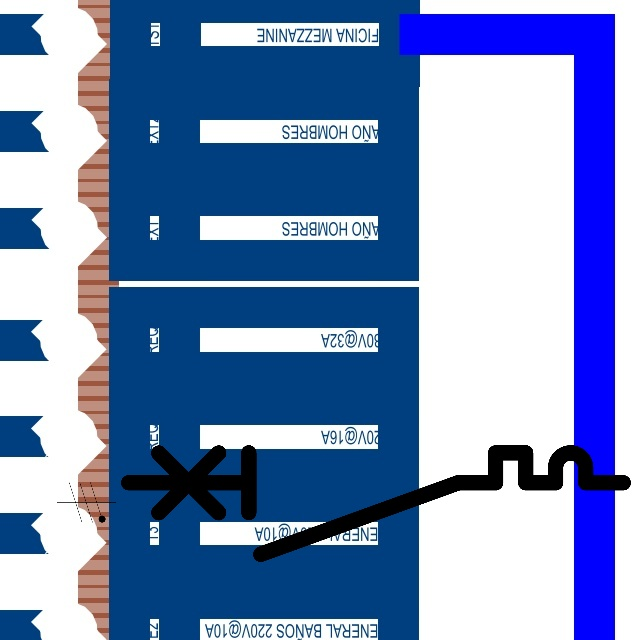interruptor_termomagnetico: (115, 440, 636, 567)
